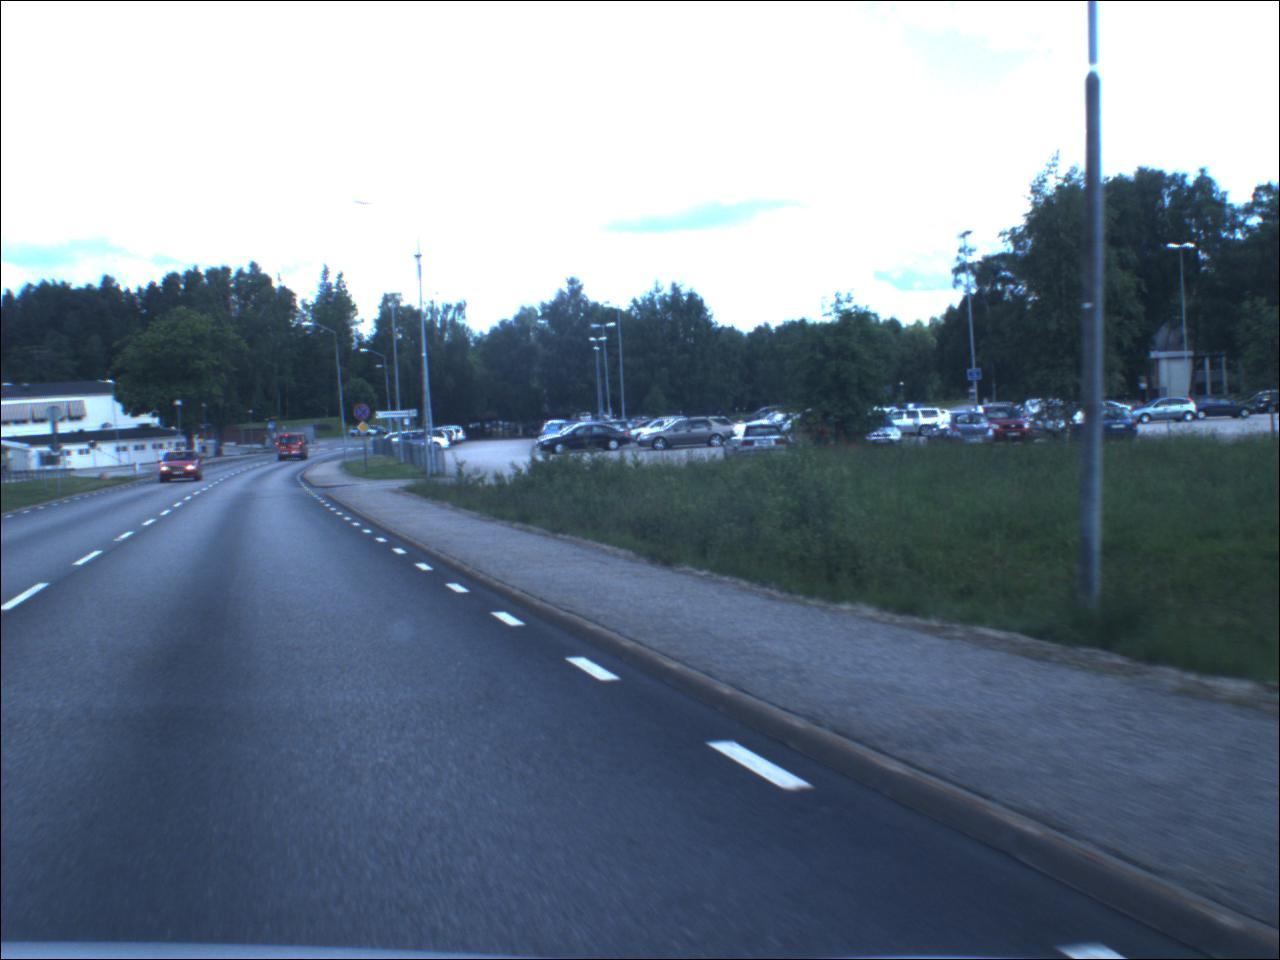NO_STOPPING_NO_STANDING: (355, 405, 372, 424)
PRIORITY_ROAD: (359, 423, 372, 436)
